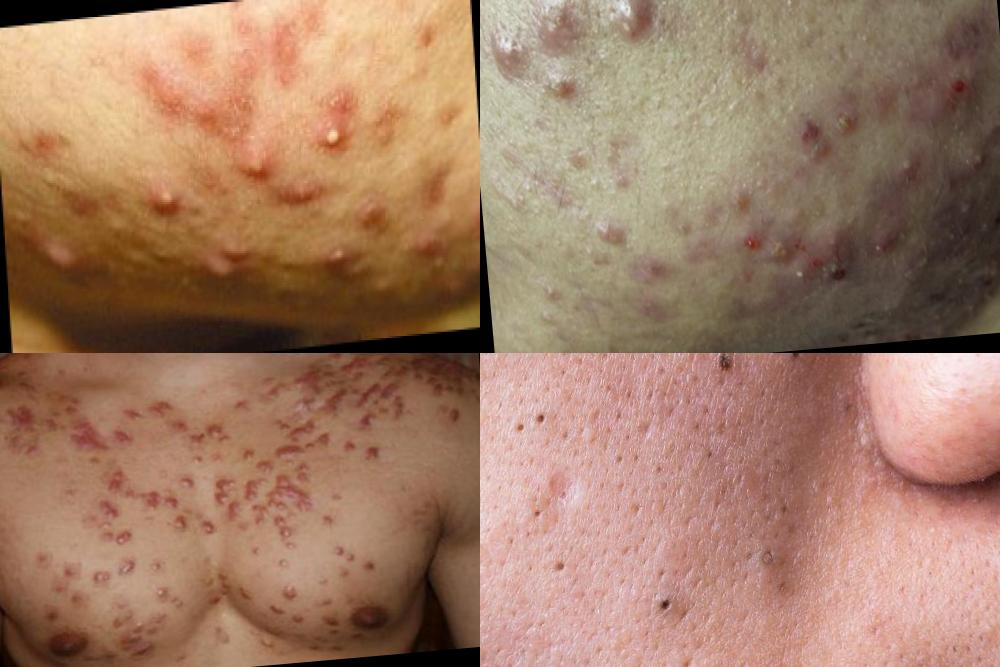blackhead: (501, 397, 559, 449), (535, 537, 592, 589), (745, 531, 802, 573), (651, 578, 686, 632)
cystic: (197, 230, 257, 289), (39, 240, 80, 285)
keloid: (1, 390, 116, 472), (242, 463, 325, 524), (105, 466, 164, 518), (257, 366, 335, 405), (354, 382, 408, 434), (179, 443, 265, 473), (161, 478, 203, 538), (339, 354, 414, 385), (335, 432, 391, 469), (199, 568, 247, 608), (262, 577, 307, 619), (120, 396, 175, 430), (94, 513, 141, 551), (113, 629, 162, 665), (214, 468, 243, 525), (91, 558, 139, 588), (190, 418, 235, 450), (275, 413, 322, 440), (107, 426, 138, 455), (270, 441, 309, 462), (439, 400, 466, 428), (148, 582, 175, 605), (330, 544, 359, 565), (148, 553, 170, 576)
papular: (142, 169, 189, 229), (356, 190, 388, 233)
purulent: (230, 132, 277, 193), (311, 112, 355, 165), (893, 149, 931, 185), (960, 145, 1000, 179), (322, 238, 349, 276)
sebo-crystan-conglo: (755, 214, 868, 312), (536, 1, 595, 61), (604, 1, 657, 48), (486, 38, 525, 80), (586, 216, 627, 249)
whitehead: (642, 197, 684, 232), (536, 280, 565, 314), (583, 173, 619, 199), (650, 157, 686, 182)
